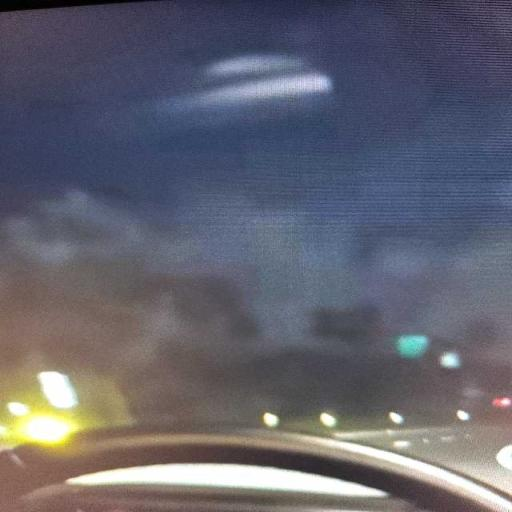car: (0, 0, 511, 511)
lane: (335, 425, 511, 492)
